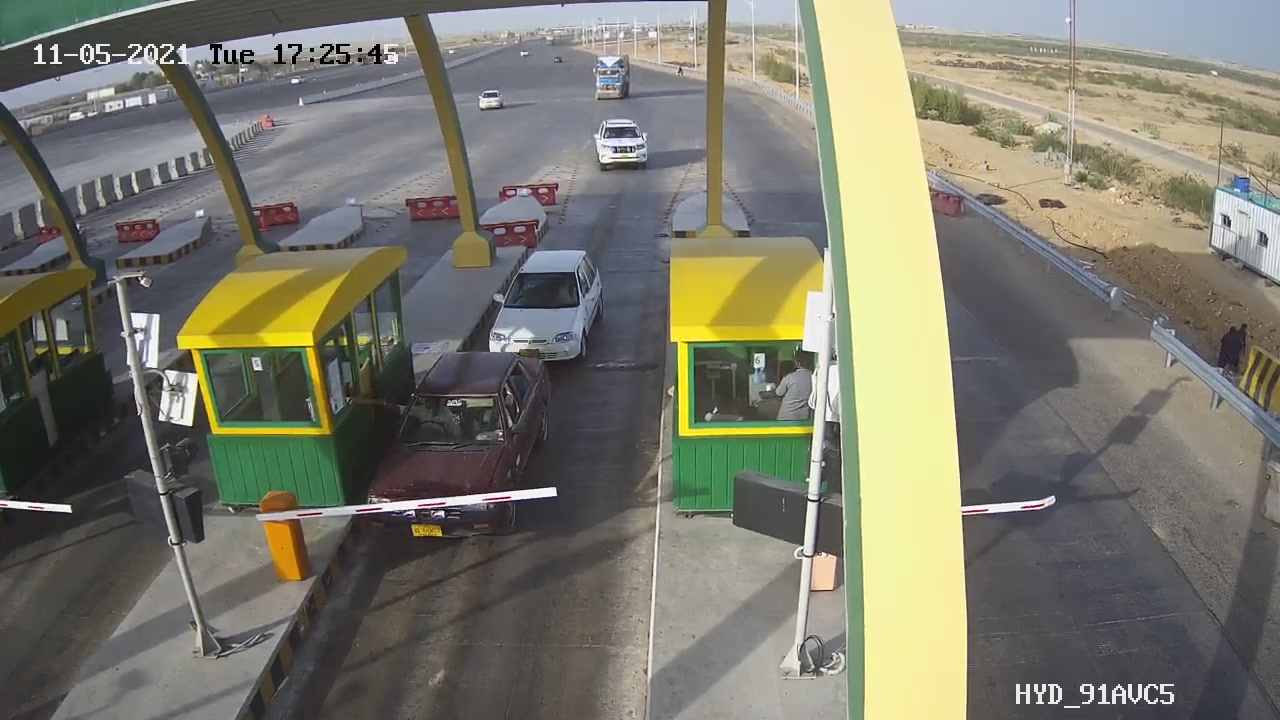F1: (351, 340, 581, 560), (468, 235, 616, 374)
